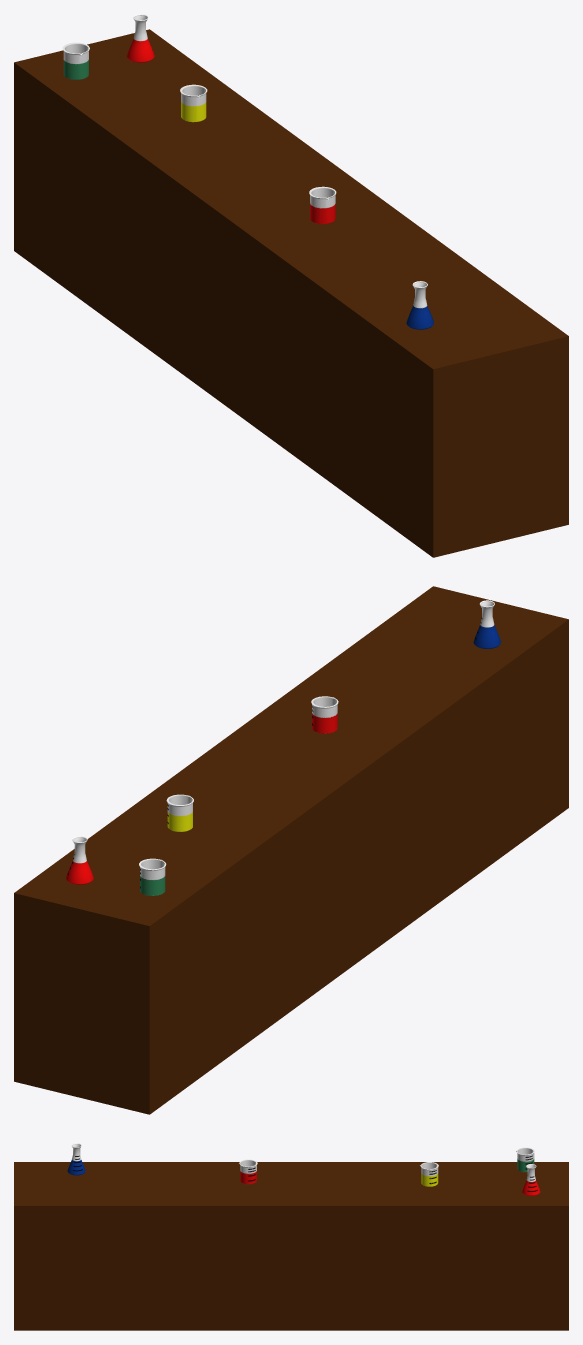
File: table2.fbx
3 renders of one model, top to bottom at view 1: azimuth 30°, elevation 25°; view 2: azimuth 150°, elevation 25°; view 3: azimuth 270°, elevation 25°, orthographic. The views are drawn at different scales.
Parts seen in each view (by area): view 1: pCube2; view 2: pCube2; view 3: pCube2.
Part boxes in pixels (bbox=[...]): pCube2: bbox=[14, 14, 568, 557]; pCube2: bbox=[14, 586, 568, 1114]; pCube2: bbox=[14, 1143, 568, 1330].
Size of the model in its own units: 3.38 by 5.49 by 18.08.
